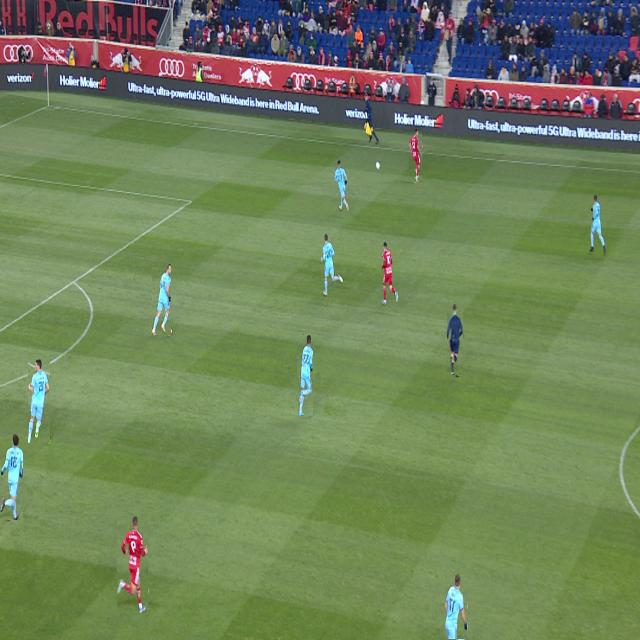football: (376, 161, 380, 171)
player: (118, 517, 148, 613), (0, 435, 23, 520), (28, 360, 50, 443), (446, 575, 467, 639), (321, 234, 343, 295), (153, 264, 171, 335), (299, 336, 313, 416), (382, 242, 398, 305), (589, 195, 606, 254), (334, 161, 349, 210), (410, 129, 422, 182)
referee: (447, 304, 463, 375)
